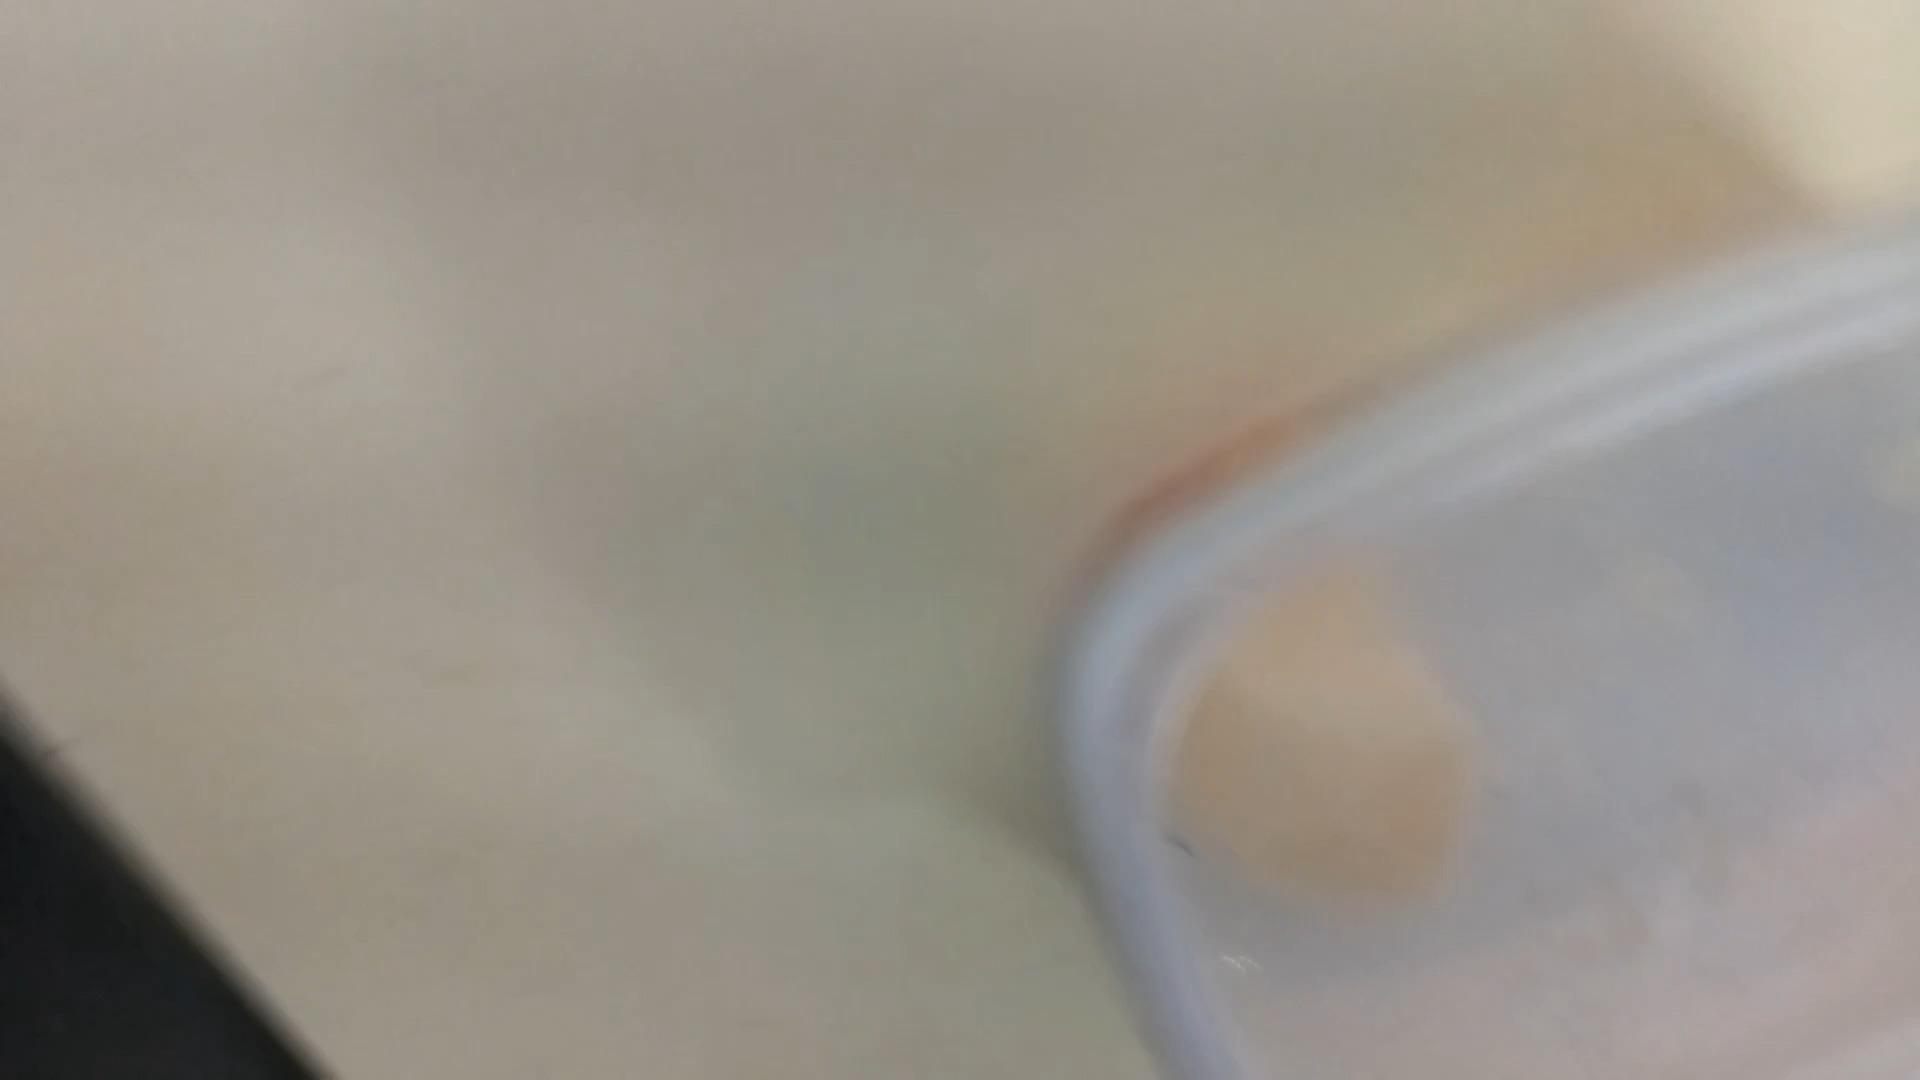butter: (1054, 187, 1920, 1080)
